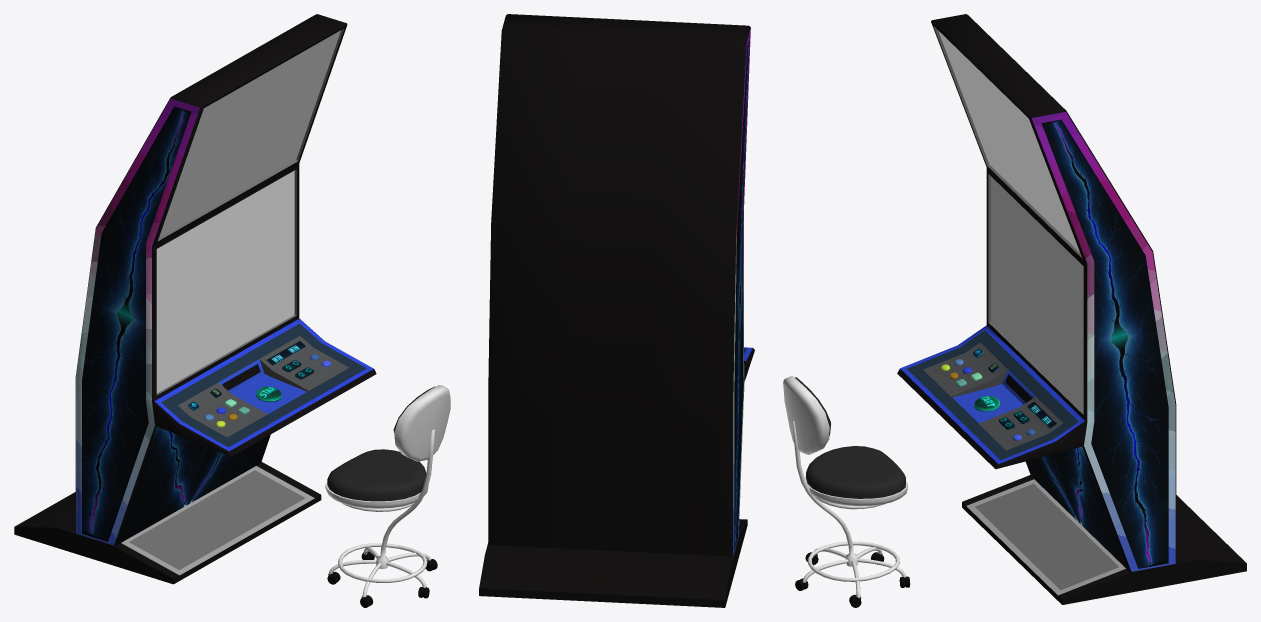
Rendered from SlotAutomatALONG1.fbx.
3 renders of one model, left to right at view 1: azimuth 30°, elevation 25°; view 2: azimuth 150°, elevation 25°; view 3: azimuth 270°, elevation 25°, orthographic.
Parts seen in each view (by area): view 1: SlotMashine.056, GameChair.069, SlotMashine.065; view 2: SlotMashine.056; view 3: SlotMashine.056, GameChair.069, SlotMashine.065.
Boxes of the visible parts, left/top/right/bottom form: SlotMashine.056: left=14, top=14, right=376, bottom=584; GameChair.069: left=325, top=385, right=450, bottom=607; SlotMashine.065: left=88, top=111, right=222, bottom=531; SlotMashine.056: left=479, top=14, right=754, bottom=607; SlotMashine.056: left=897, top=14, right=1246, bottom=604; GameChair.069: left=783, top=375, right=910, bottom=607; SlotMashine.065: left=1043, top=122, right=1152, bottom=561.
Bounding box in the file's own units: 169 × 272 × 231.
Materials: 8 (5 with a texture image).
